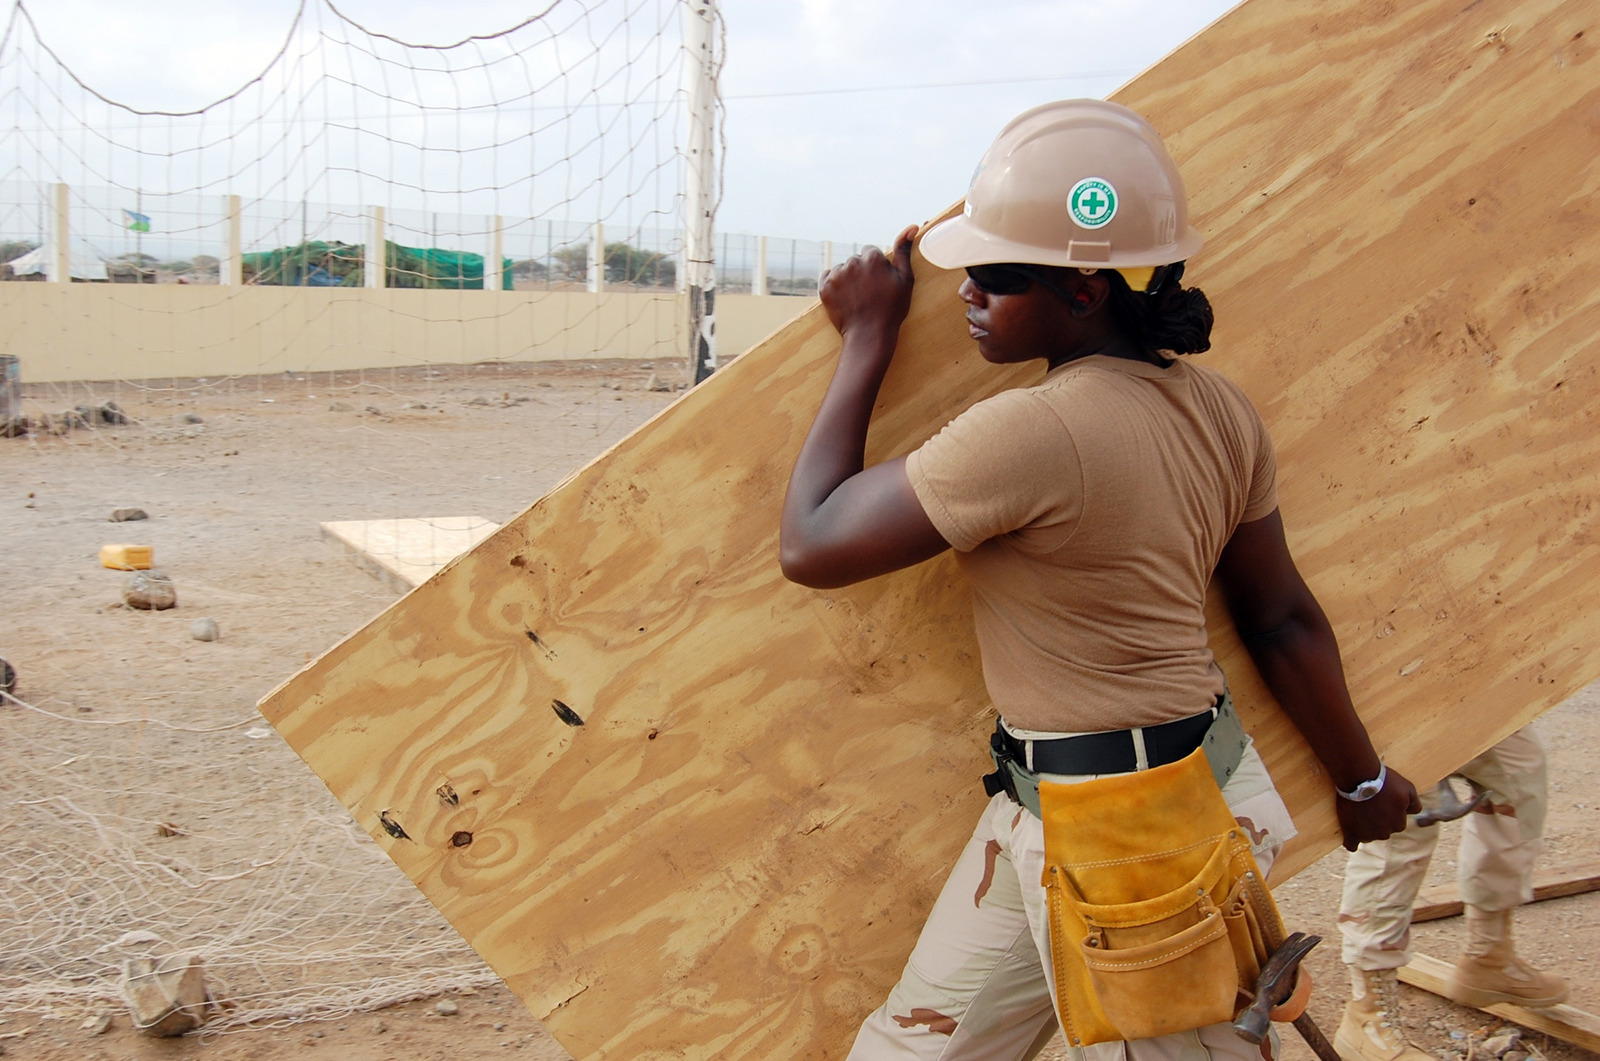hard hat: (919, 96, 1201, 270)
